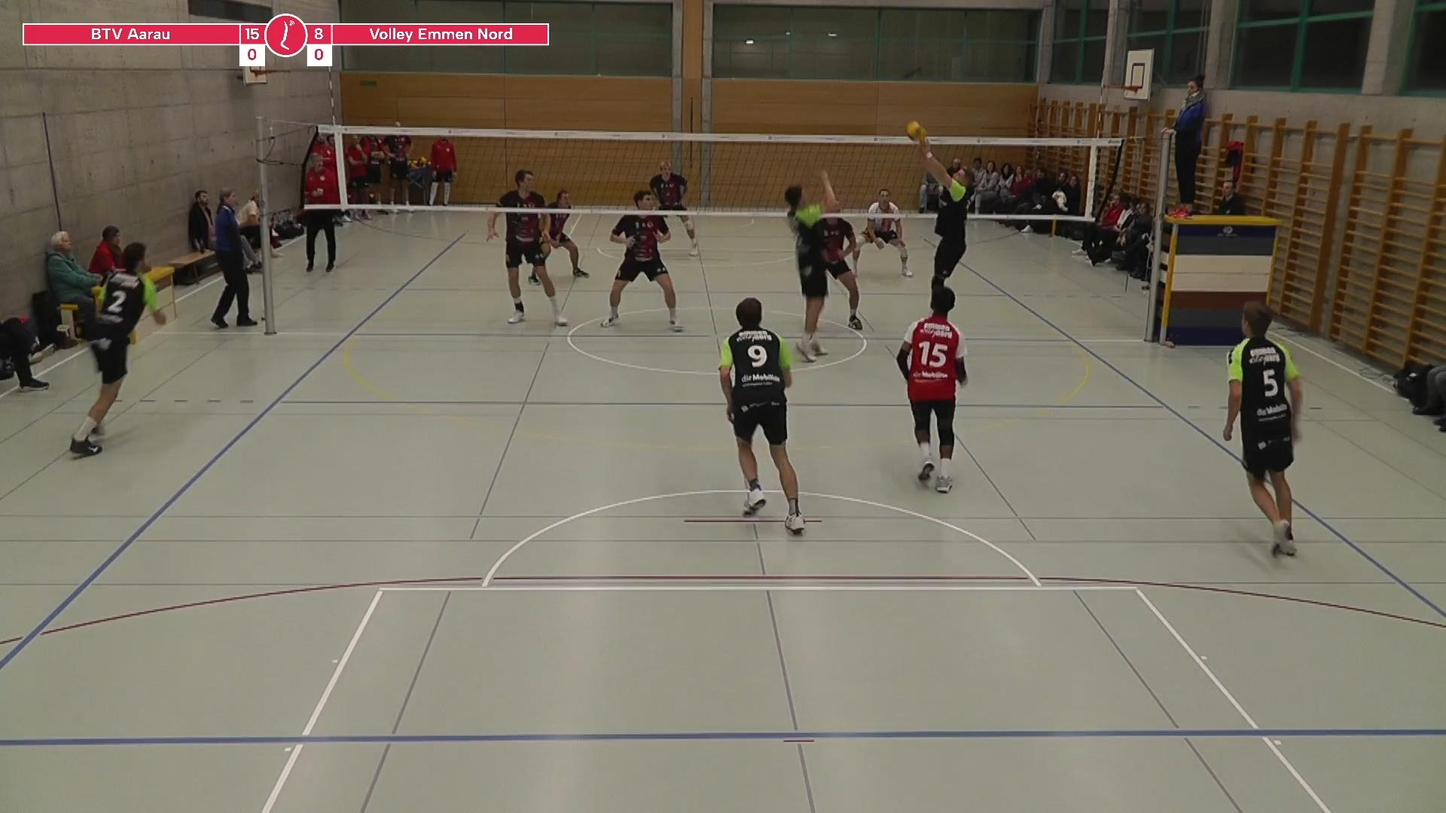alzata: (909, 146, 990, 322)
